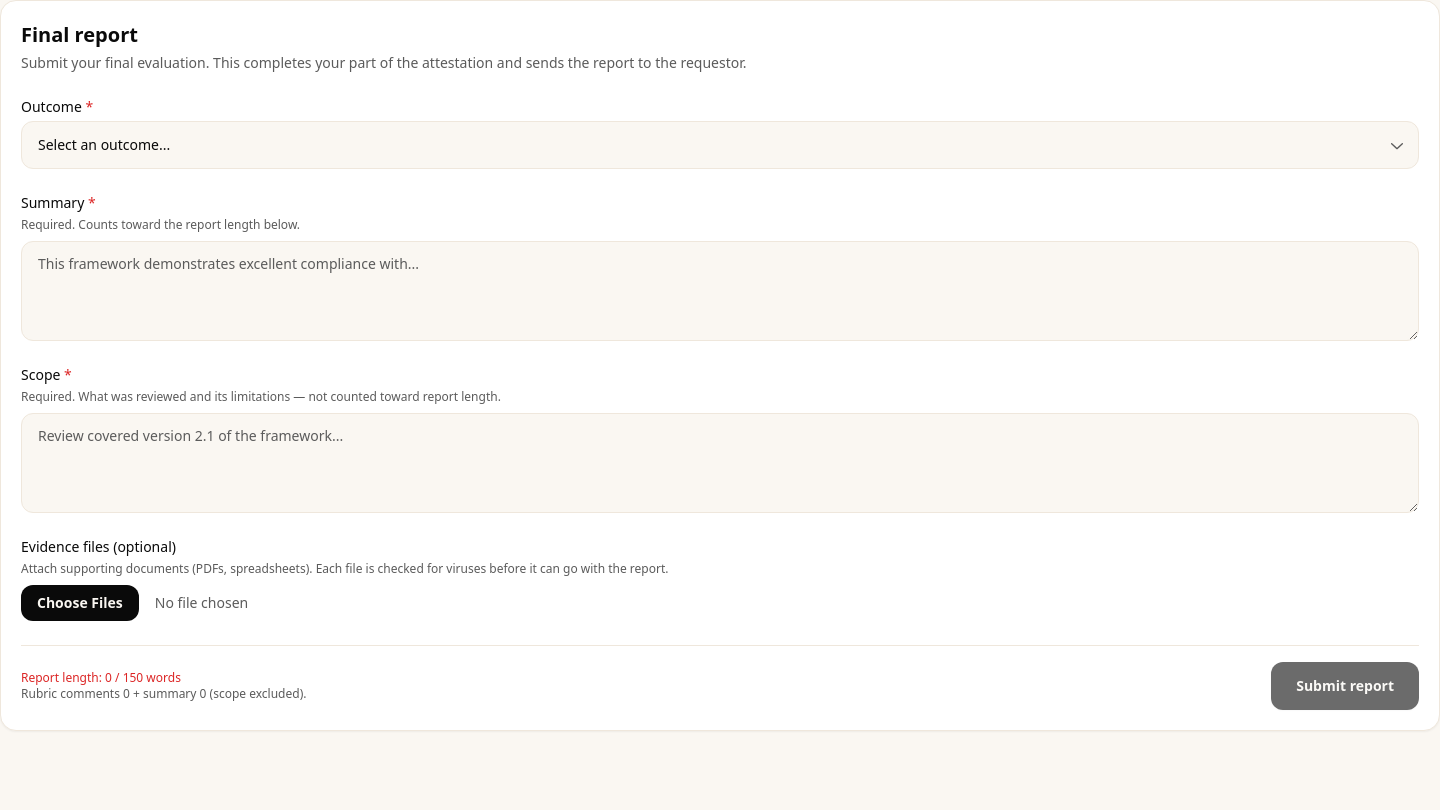
Test: ReportPanel › requires conditions when the outcome is conditional
Select "Conditional Approval" in the dropdown at (720, 145), box [21, 121, 1419, 169]
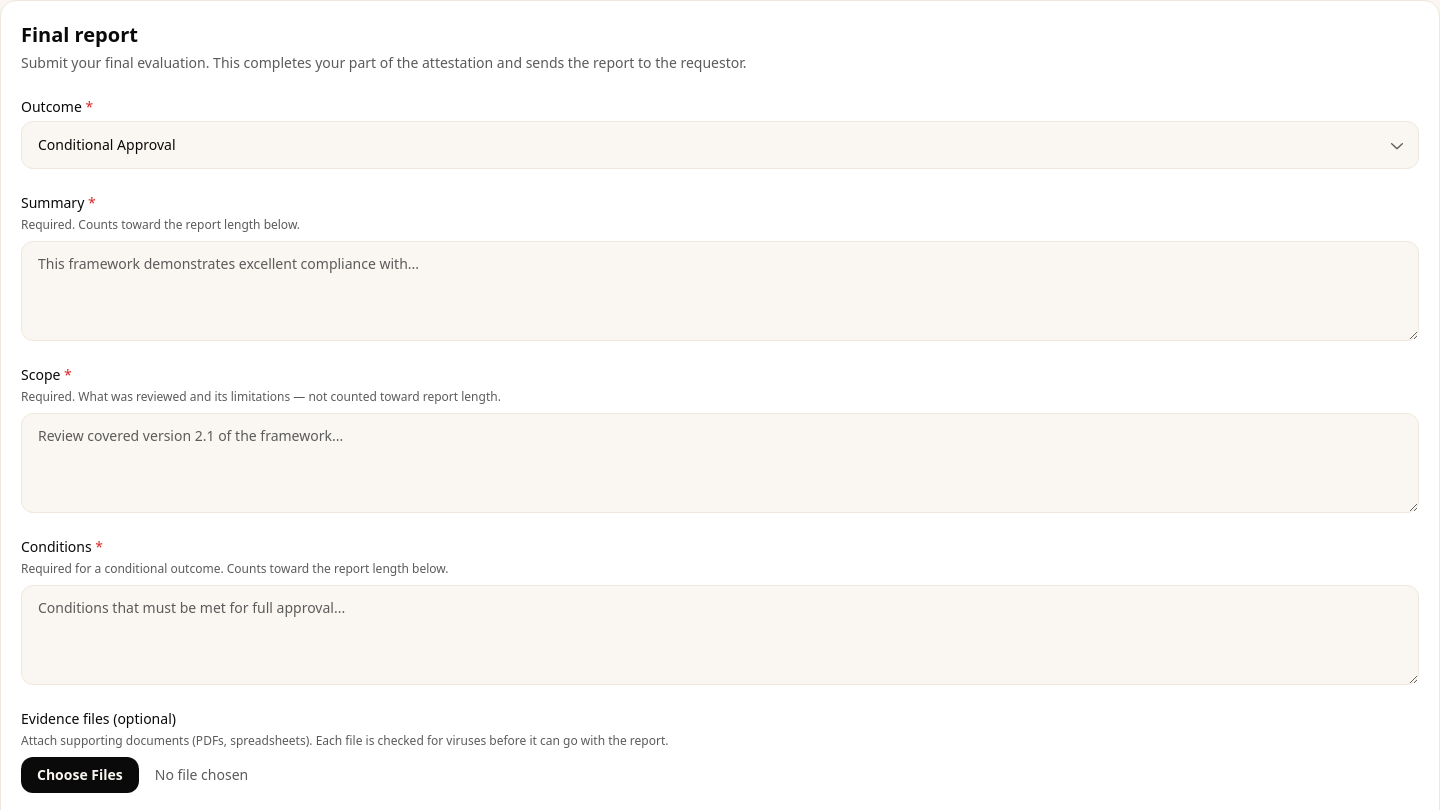
Type "This review summary is long enough for submission." into the text box with placeholder "This framework demonstrates excellent compliance with..." at (720, 291), box [21, 241, 1419, 341]
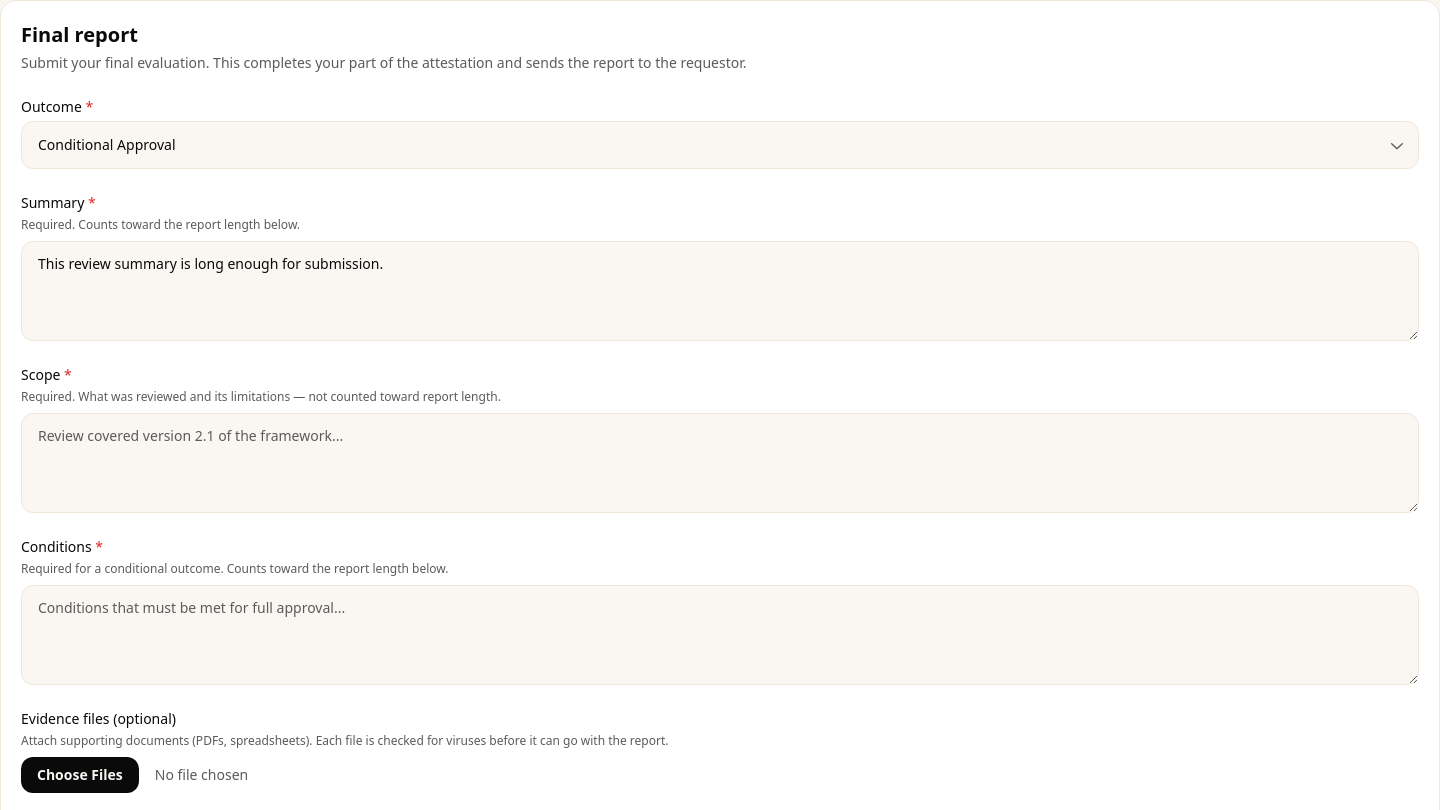
Type "Reviewed the framework artifacts and supporting notes." into the text box with placeholder "Review covered version 2.1 of the framework..." at (720, 463), box [21, 413, 1419, 513]
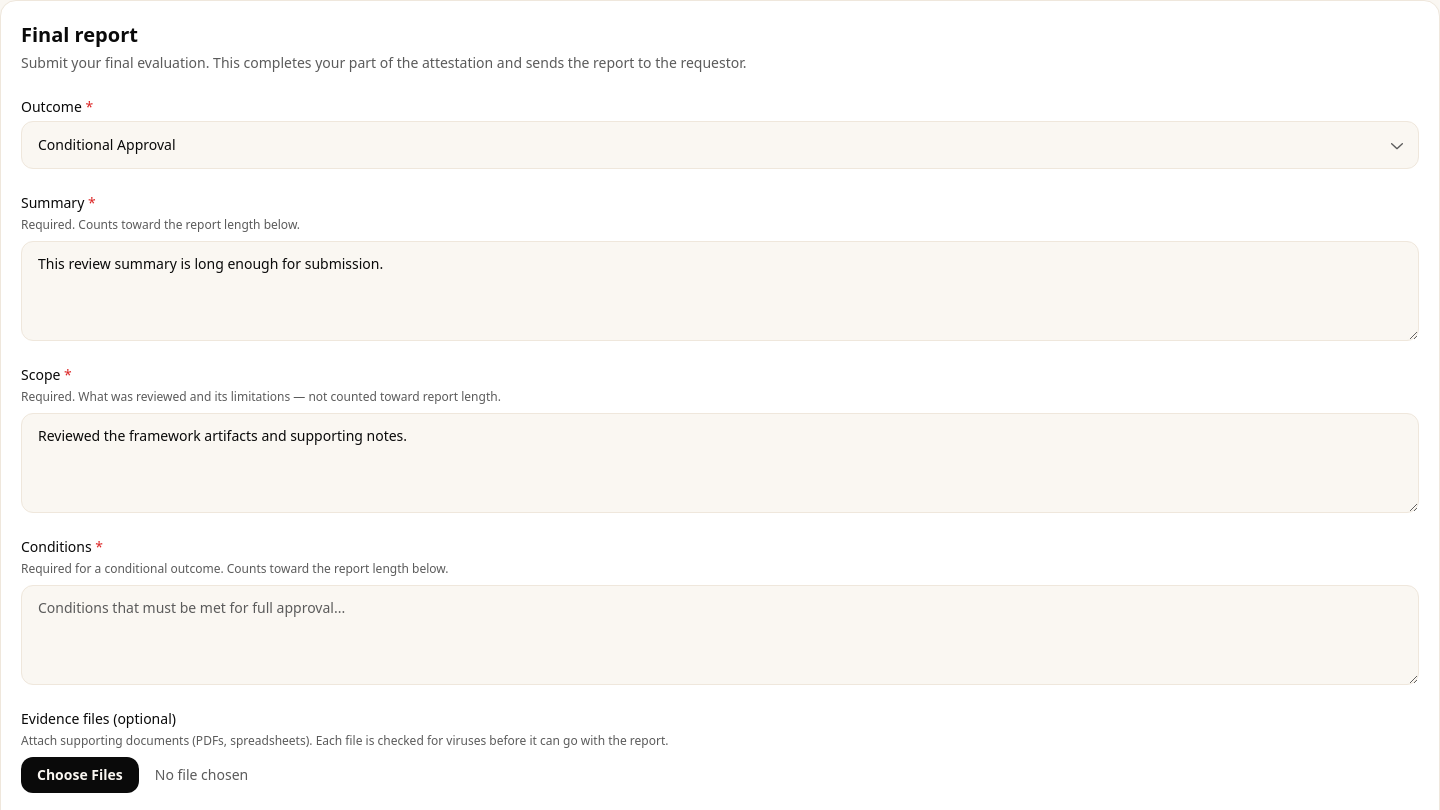
Type "Must add SOC2 mapping before full approval." into the text box with placeholder "Conditions that must be met for full approval..." at (720, 635), box [21, 585, 1419, 685]
(page scrolled)
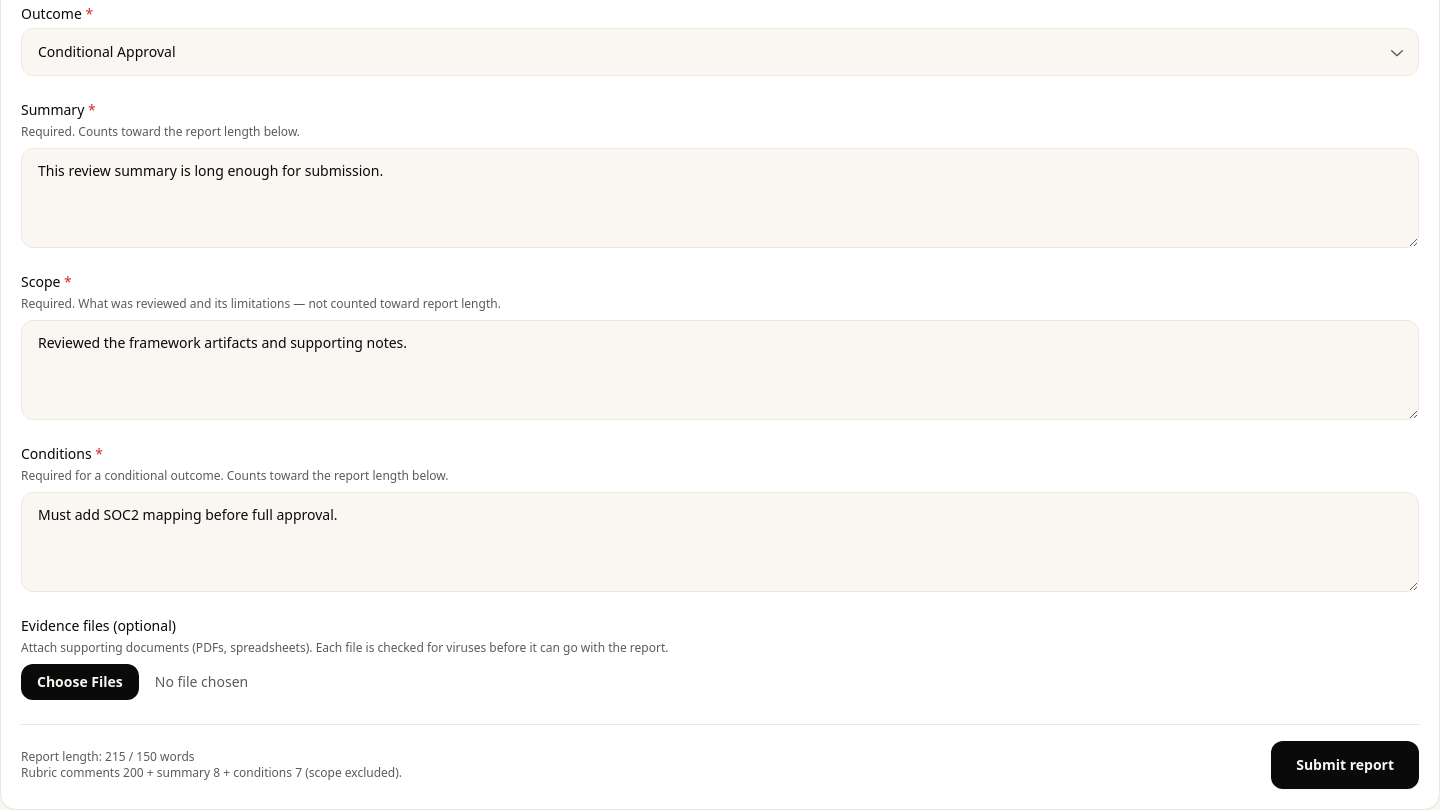
Now the button "Submit report" is enabled, box [1271, 741, 1419, 789]
